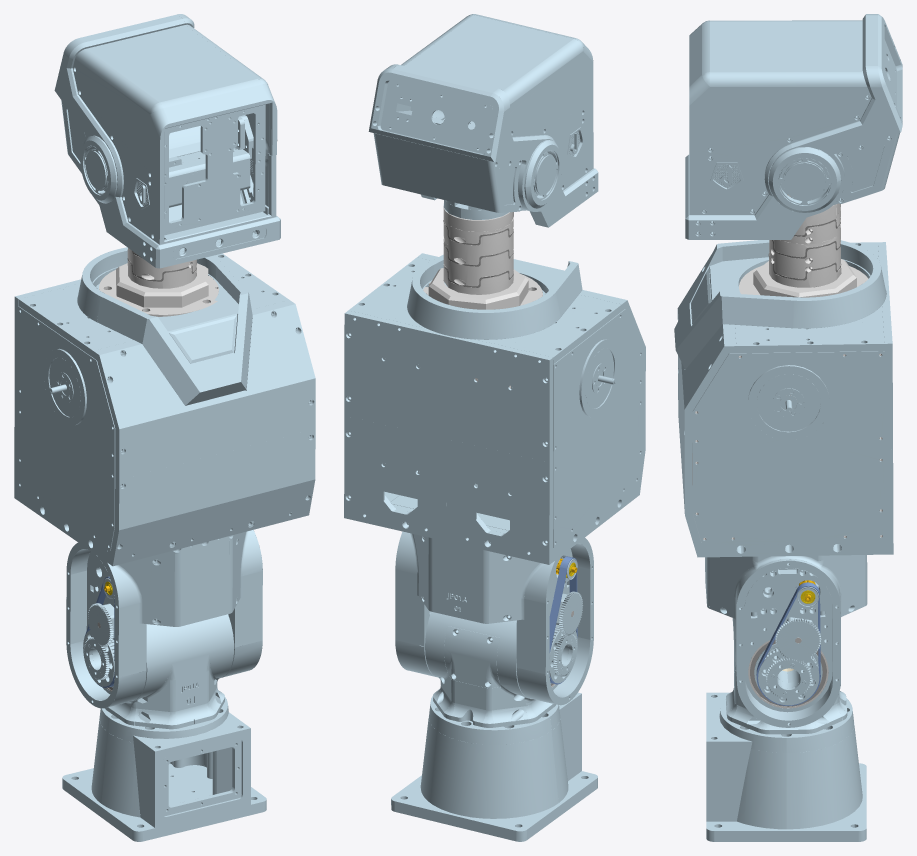
3 renders of one model, left to right at view 1: azimuth 30°, elevation 25°; view 2: azimuth 150°, elevation 25°; view 3: azimuth 270°, elevation 25°, orthographic. The views are drawn at different scales.
Parts seen in each view (by area): view 1: Torso, Tilt, Pan; view 2: Torso, Tilt, Pan; view 3: Torso, Tilt, Pan.
Boxes of the visible parts, x1=… form: Torso: x1=14, y1=247, x2=315, y2=841; Tilt: x1=54, y1=14, x2=280, y2=268; Pan: x1=99, y1=248, x2=218, y2=316; Torso: x1=344, y1=253, x2=645, y2=841; Tilt: x1=368, y1=14, x2=598, y2=227; Pan: x1=423, y1=200, x2=542, y2=309; Torso: x1=674, y1=240, x2=893, y2=841; Tilt: x1=685, y1=14, x2=902, y2=239; Pan: x1=739, y1=194, x2=868, y2=297.
Bounding box in the file's own units: 0.3495 × 1.06 × 0.2849.
